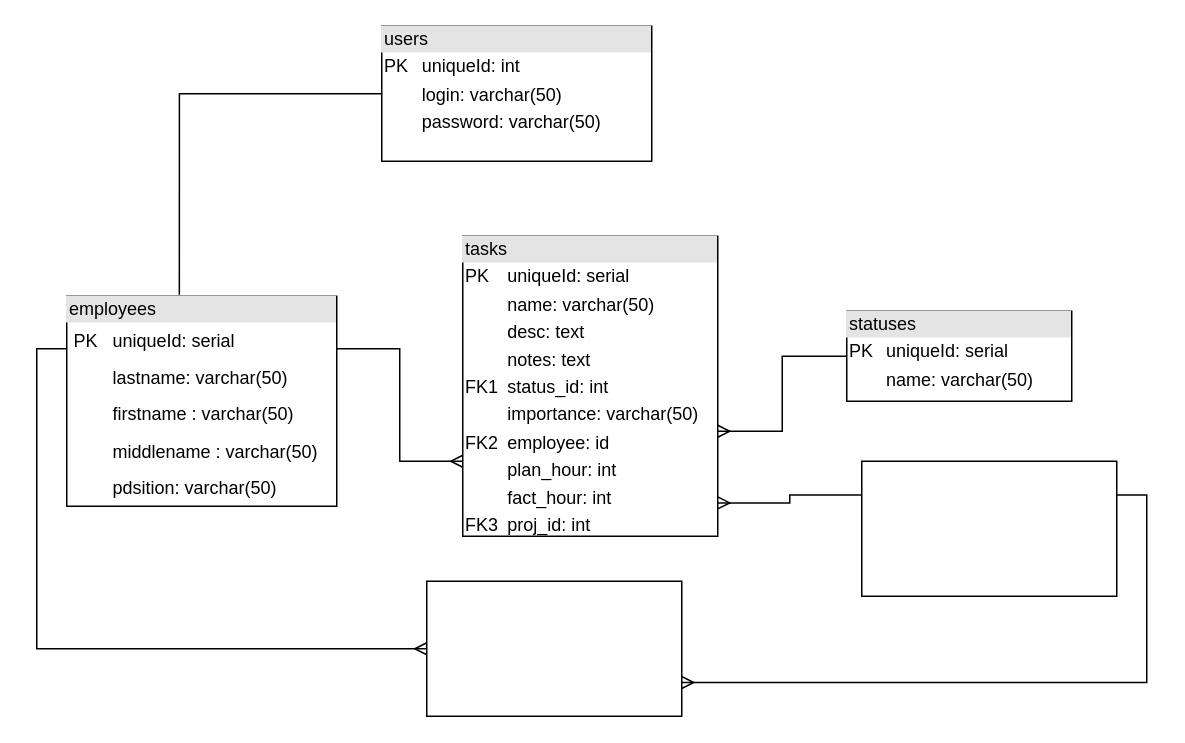
This 1185x743 diagram has some shape labels left out. Here are the shapes that lost their labels. From the top down, the centre of each, then its label:
At point (988, 528): "projects PK uniqueId: serial name: varchar(50) desc: text".
At point (553, 648): "toc_emp_proj PK uniqueId: serial FK1 emp_id: int FK2 proj_id: int".
